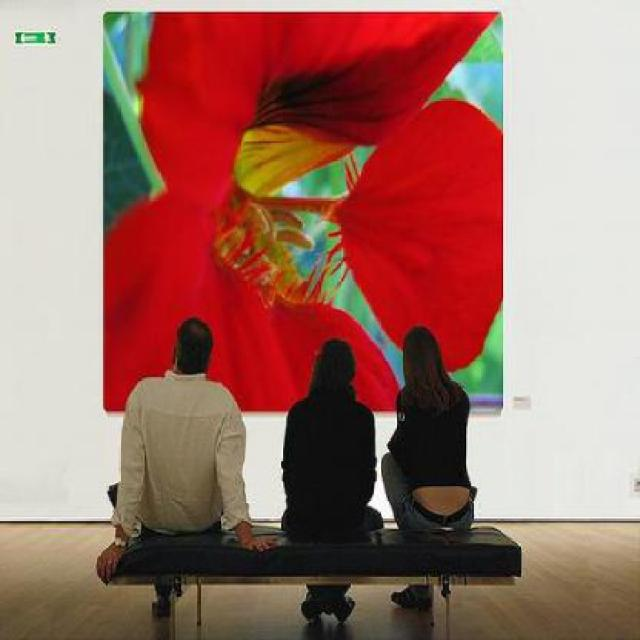Person: (95, 316, 272, 622), (273, 338, 385, 625), (380, 323, 477, 611)
